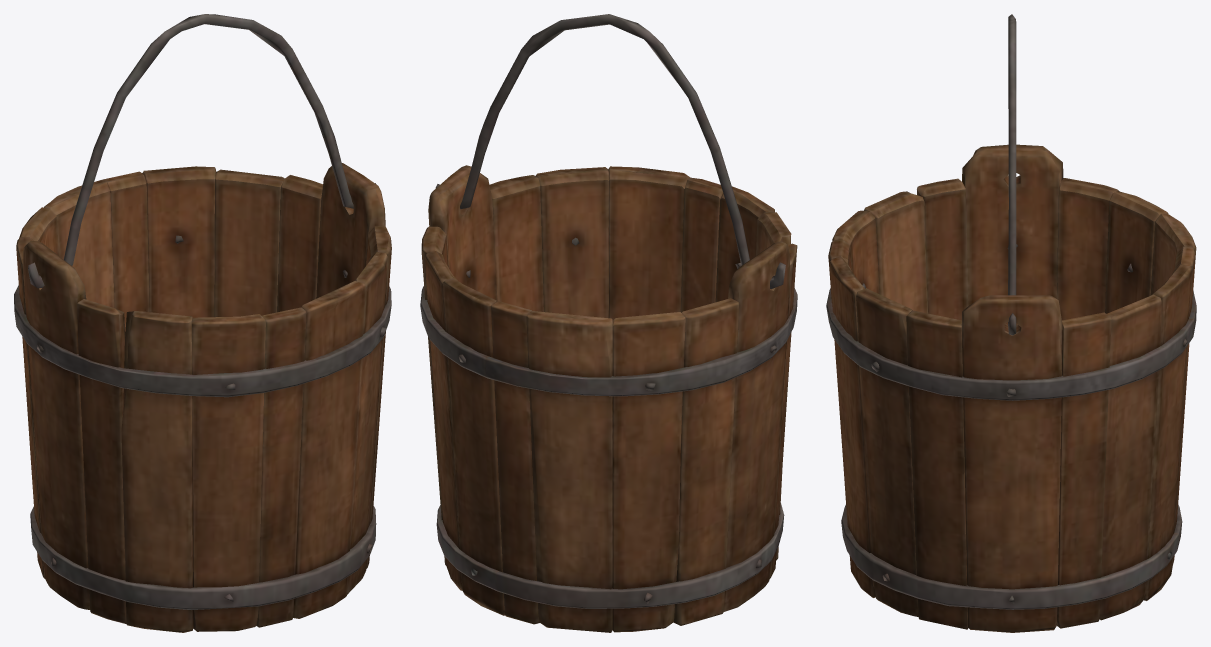
3 renders of one model, left to right at view 1: azimuth 30°, elevation 25°; view 2: azimuth 150°, elevation 25°; view 3: azimuth 270°, elevation 25°, orthographic.
Visible parts, largest first — view 1: wooden_bucket_01_lod1; view 2: wooden_bucket_01_lod1; view 3: wooden_bucket_01_lod1.
Part boxes in pixels (<box>): wooden_bucket_01_lod1: <box>14,14,391,632</box>; wooden_bucket_01_lod1: <box>420,14,797,632</box>; wooden_bucket_01_lod1: <box>826,14,1196,632</box>.
Size of the model in its own units: 0.3663 by 0.5493 by 0.3422.
Materials: 1 (1 with a texture image).
